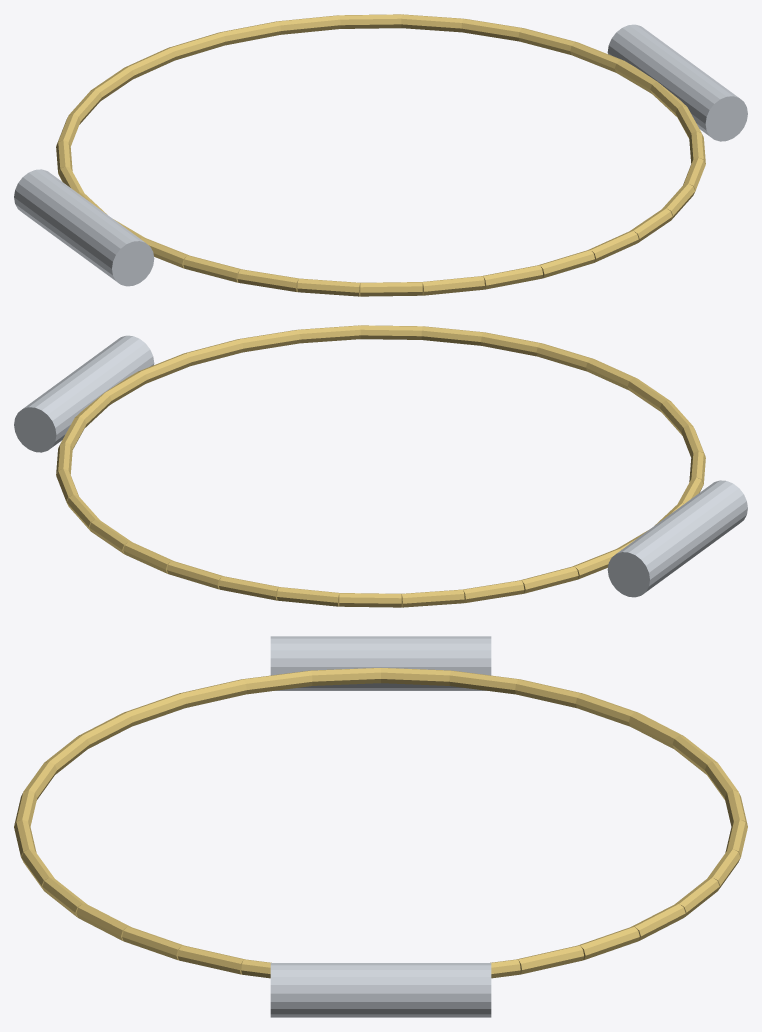
The model's file is wst-fibre-pm5-manual.glb.
3 renders of one model, top to bottom at view 1: azimuth 30°, elevation 25°; view 2: azimuth 150°, elevation 25°; view 3: azimuth 270°, elevation 25°, orthographic. The views are drawn at different scales.
Visible parts, largest first — view 1: gold cable (×24), silver FC connector (×2); view 2: gold cable (×24), silver FC connector (×2); view 3: silver FC connector (×2), gold cable (×20).
Boxes of the visible parts, bbox=[...] form: gold cable (×24): bbox=[68, 14, 695, 296]; silver FC connector (×2): bbox=[14, 24, 747, 286]; gold cable (×24): bbox=[66, 325, 693, 607]; silver FC connector (×2): bbox=[14, 335, 747, 597]; silver FC connector (×2): bbox=[270, 636, 491, 1017]; gold cable (×20): bbox=[42, 668, 719, 974].
Bounding box in the file's own units: 0.15 × 0.01 × 0.133.
